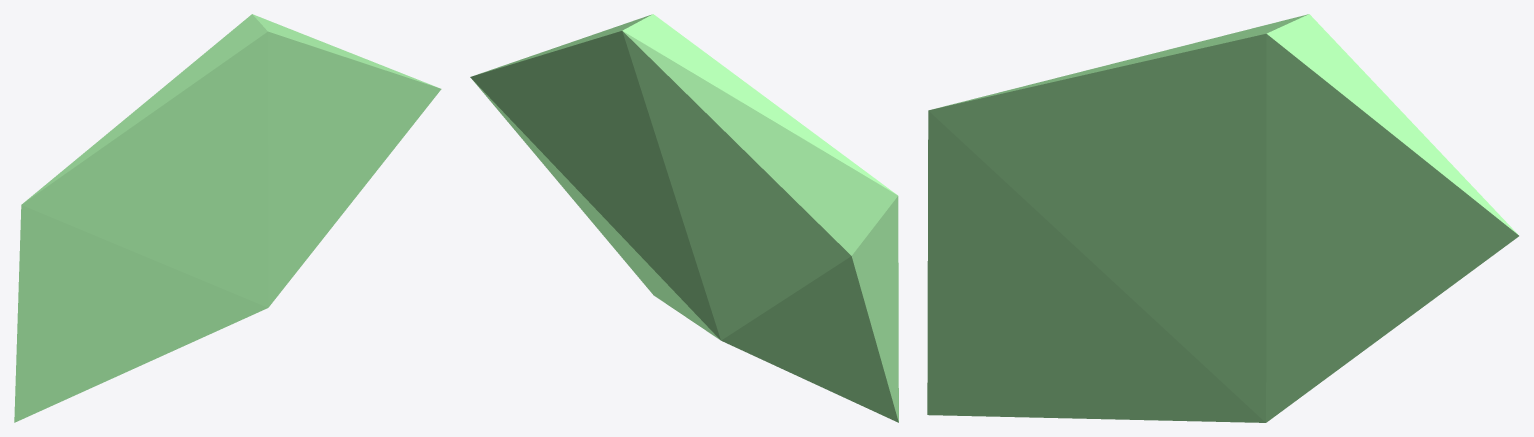
File: linkhou_LR4_R560_link2_respondable_coll_22.dae
3 views of the same model, side by side, from view 1: azimuth 30°, elevation 25°; view 2: azimuth 150°, elevation 25°; view 3: azimuth 330°, elevation 25° (orthographic). The views are drawn at different scales.
Parts seen in each view (by area): view 1: Node_00000209DB3AC770; view 2: Node_00000209DB3AC770; view 3: Node_00000209DB3AC770.
Part boxes in pixels (x1=…): Node_00000209DB3AC770: x1=14, y1=14, x2=441, y2=422; Node_00000209DB3AC770: x1=470, y1=14, x2=898, y2=422; Node_00000209DB3AC770: x1=927, y1=14, x2=1518, y2=422.
Size of the model in its own units: 0.0714 by 0.0541 by 0.00757.
